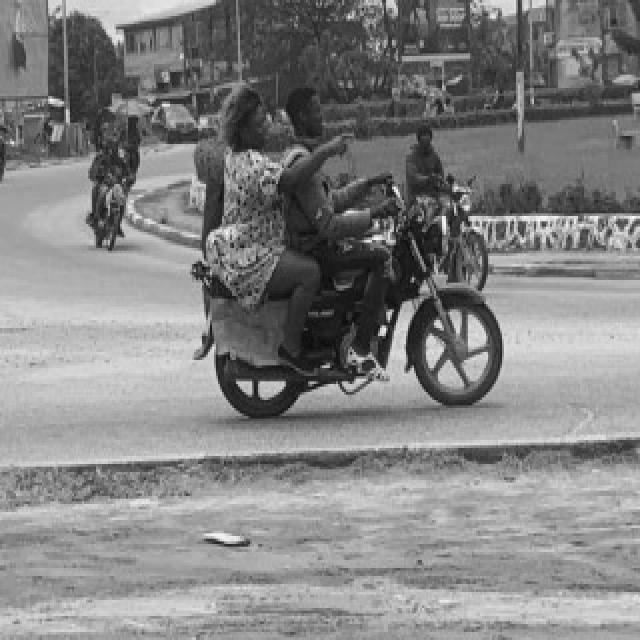Motorbike: (192, 87, 503, 420), (406, 125, 490, 291), (86, 117, 128, 251)
